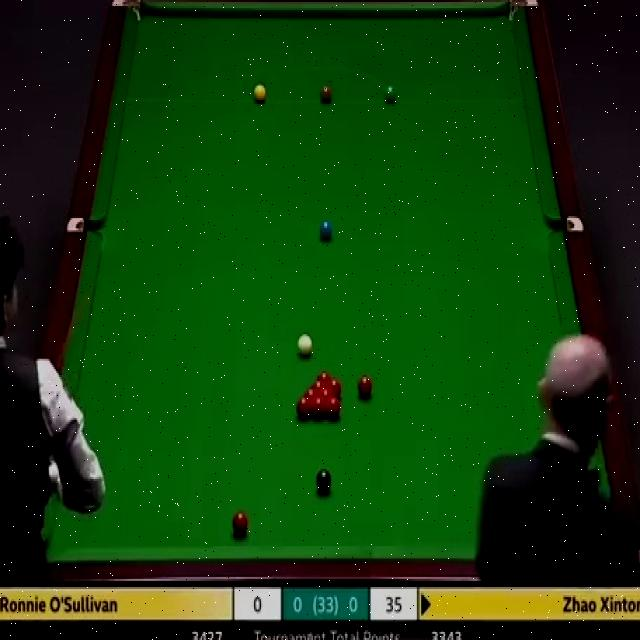black-ball: (315, 466, 333, 494)
blue-ball: (320, 220, 332, 240)
brown-ball: (319, 83, 332, 103)
green-ball: (384, 84, 397, 103)
red-ball: (232, 511, 249, 535), (358, 374, 372, 400), (296, 397, 312, 419), (312, 397, 327, 420), (327, 378, 342, 400), (327, 398, 341, 420), (311, 377, 327, 395), (302, 387, 319, 400), (317, 388, 335, 399), (318, 371, 332, 384)
white-ball: (296, 334, 312, 357)
yellow-ball: (252, 83, 266, 103)
